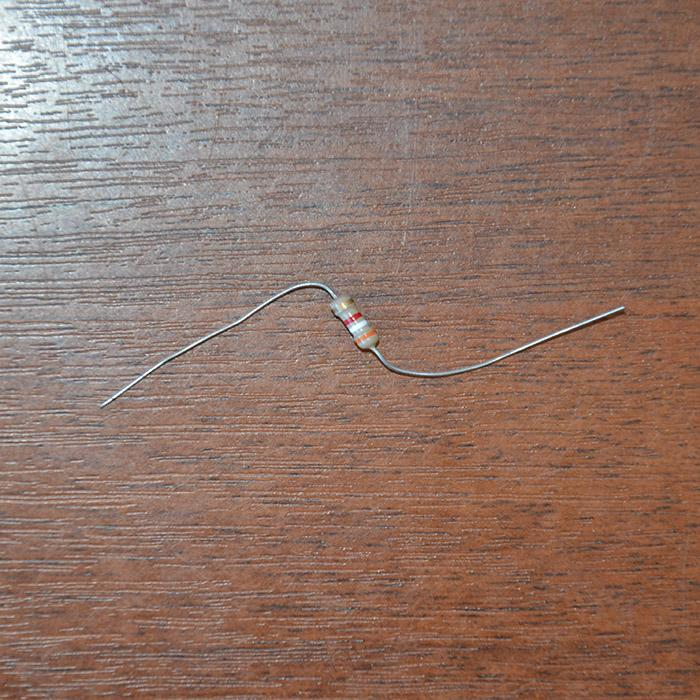resistor: (328, 292, 378, 350)
